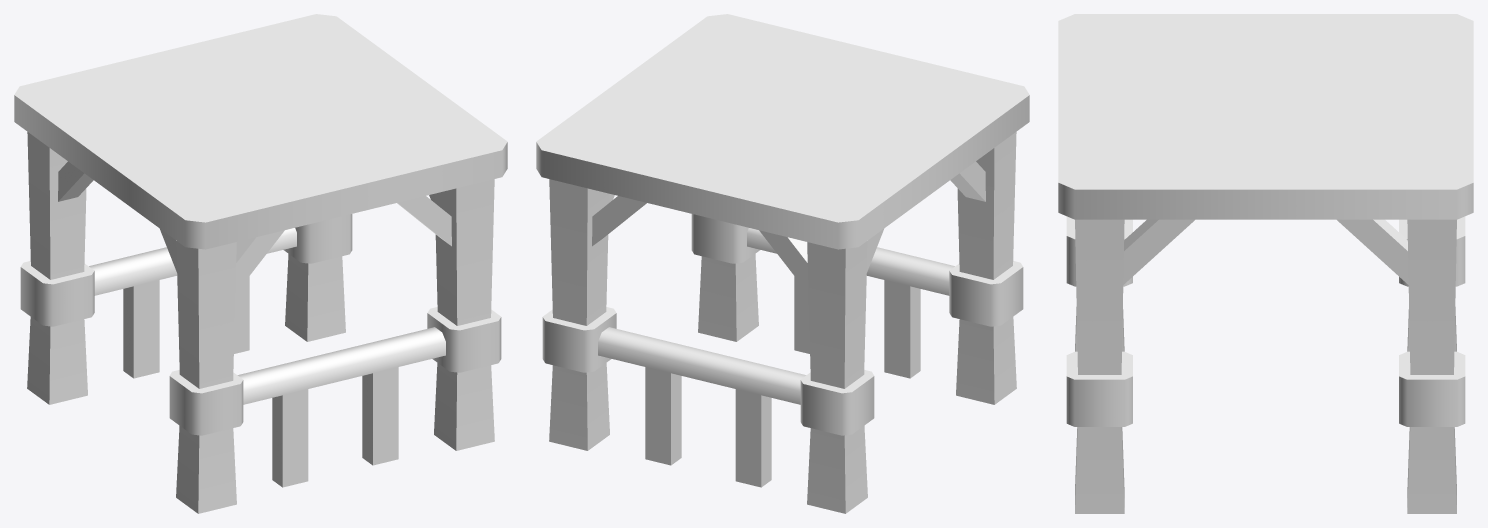
File: structure-fence.glb
3 views of the same model, side by side, from view 1: azimuth 30°, elevation 25°; view 2: azimuth 150°, elevation 25°; view 3: azimuth 270°, elevation 25° (orthographic). The views are drawn at different scales.
Visible parts, largest first — view 1: structure-fence; view 2: structure-fence; view 3: structure-fence.
Boxes of the visible parts, x1,y1,x2,y2 form: structure-fence: (14,14,507,513); structure-fence: (536,14,1029,513); structure-fence: (1058,14,1473,513).
Bounding box in the file's own units: 2.5 × 2.2 × 2.5.
1 material, 1 textured.
